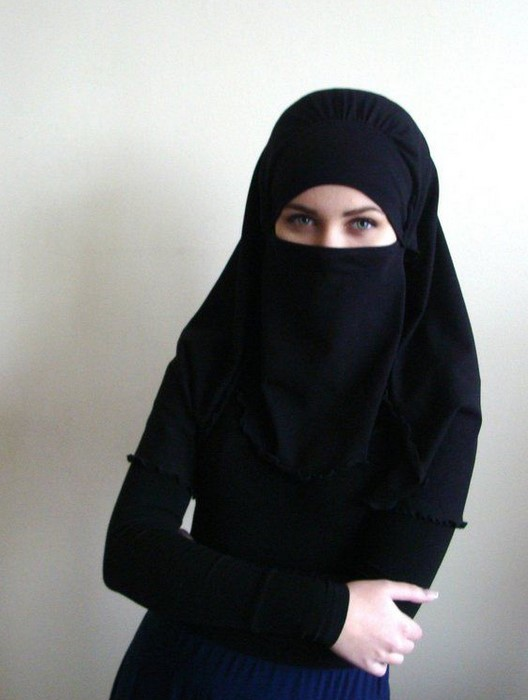face_with_mask: (262, 137, 414, 328)
